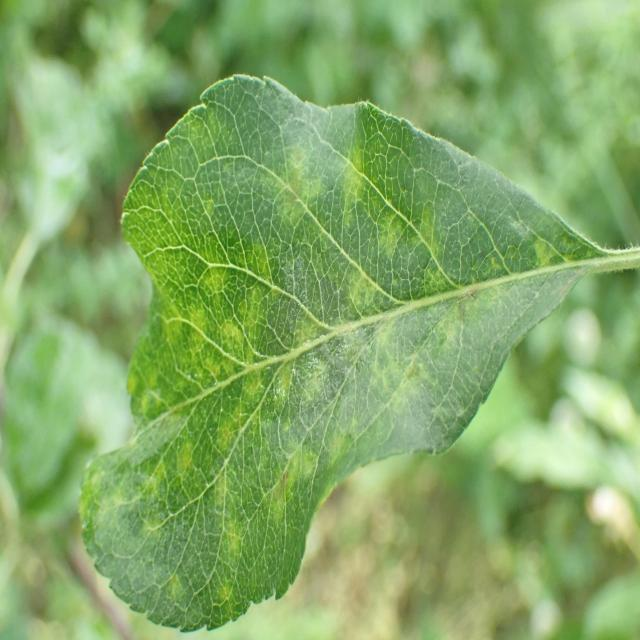scab: (155, 140, 593, 578)
